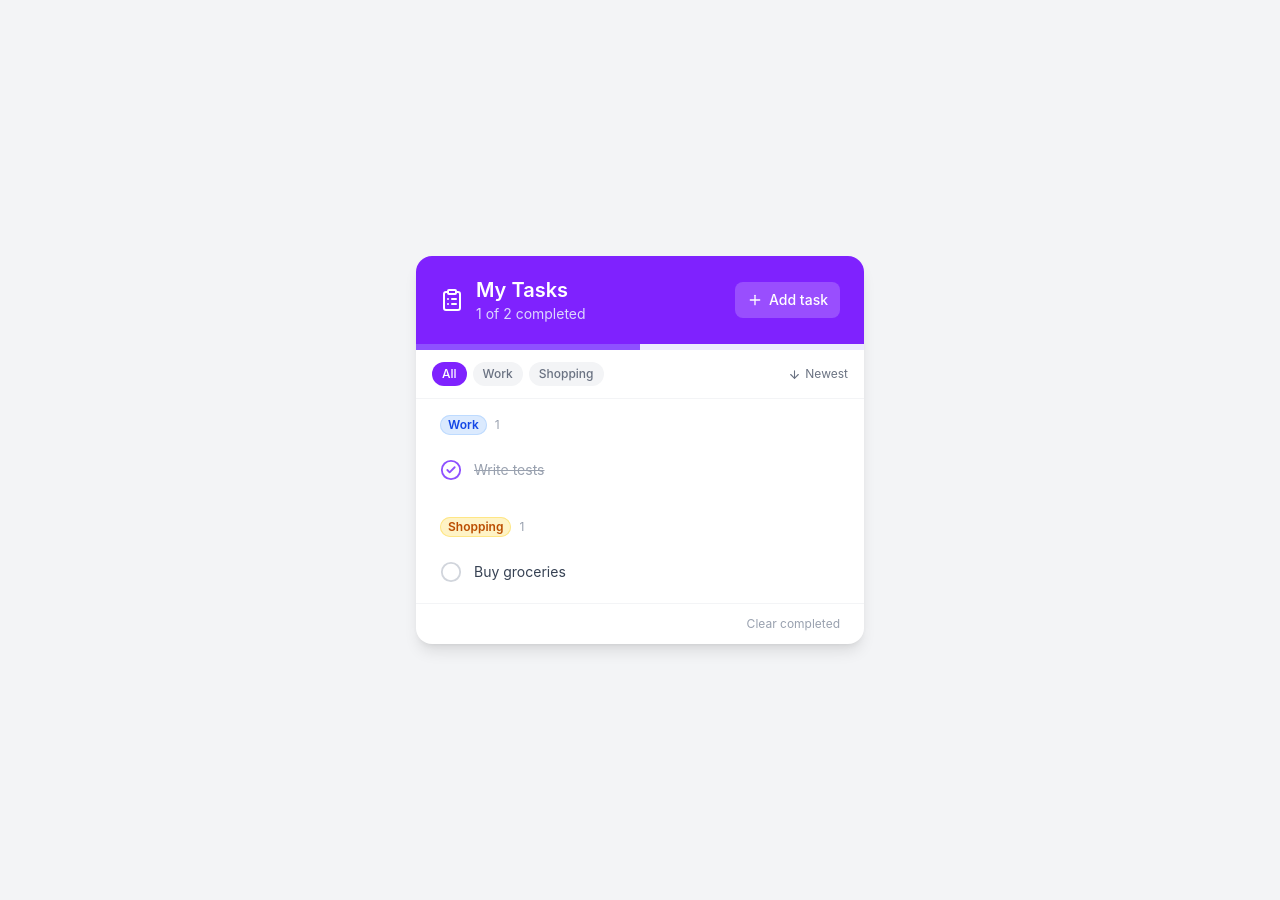
Scenario: TodoList › closes modal when X button is clicked
Click the button "Add task" at point(788, 300), box [735,282,840,318]
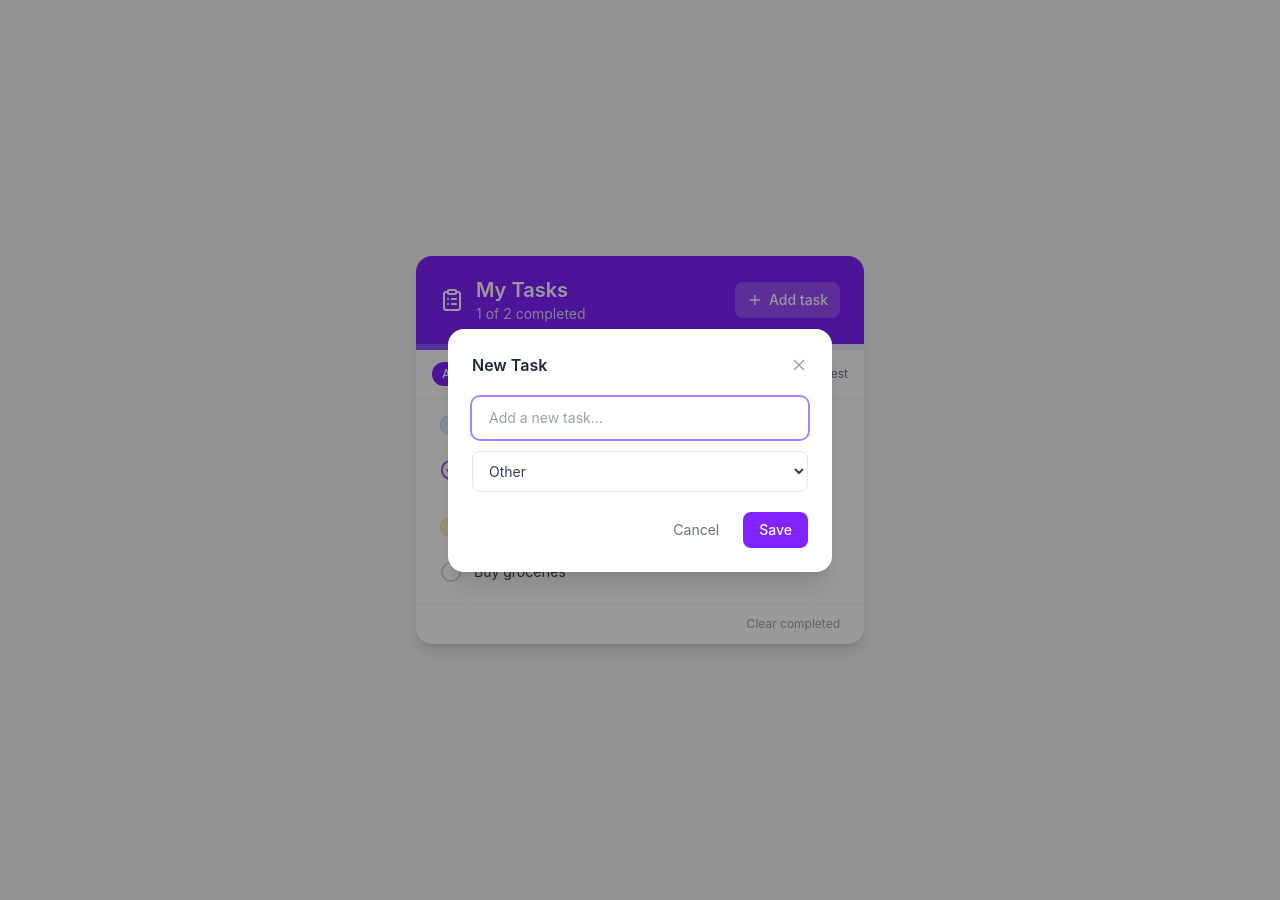
Click the button named "close modal" at point(799, 364), box [790,356,808,374]
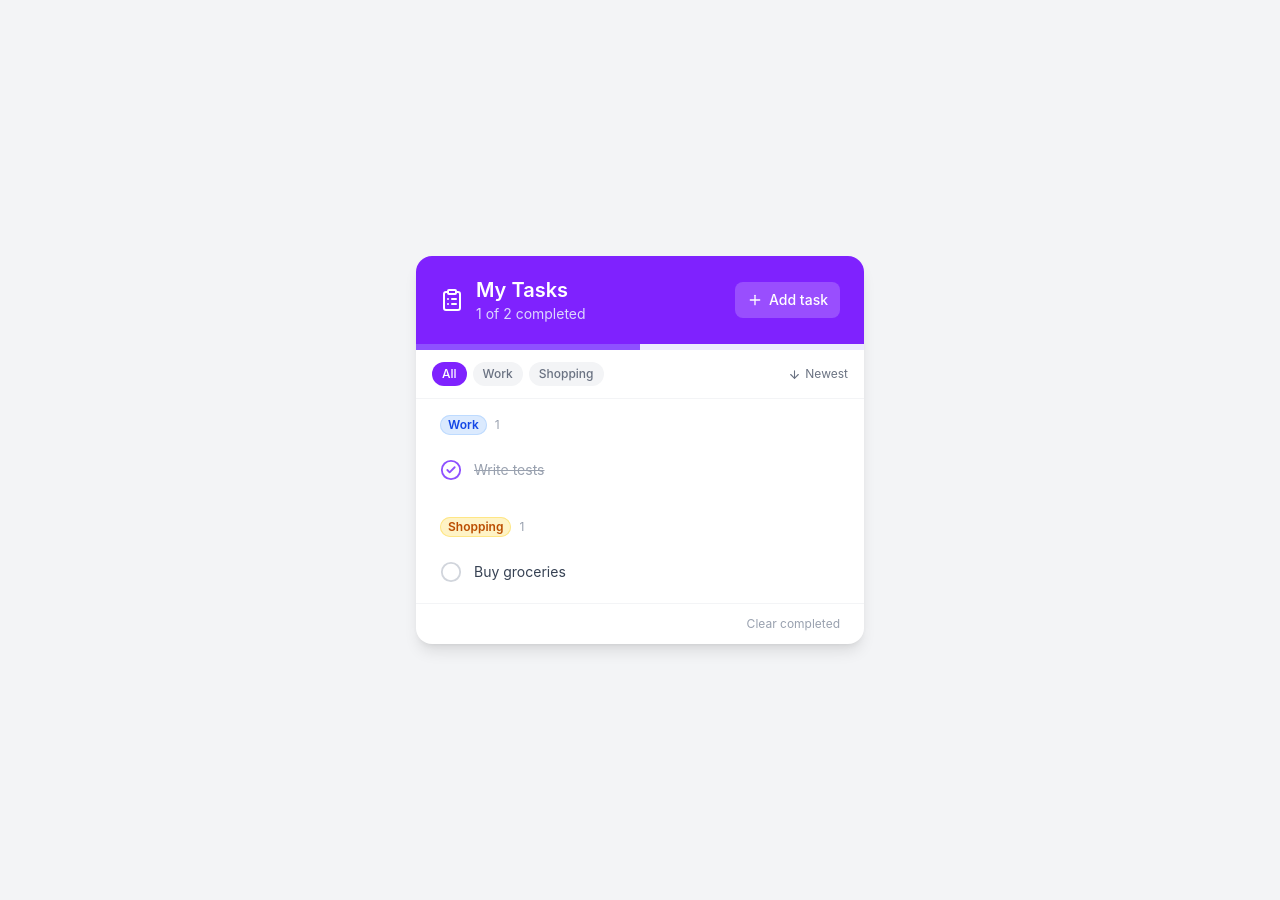
Now the heading "New Task" is gone
